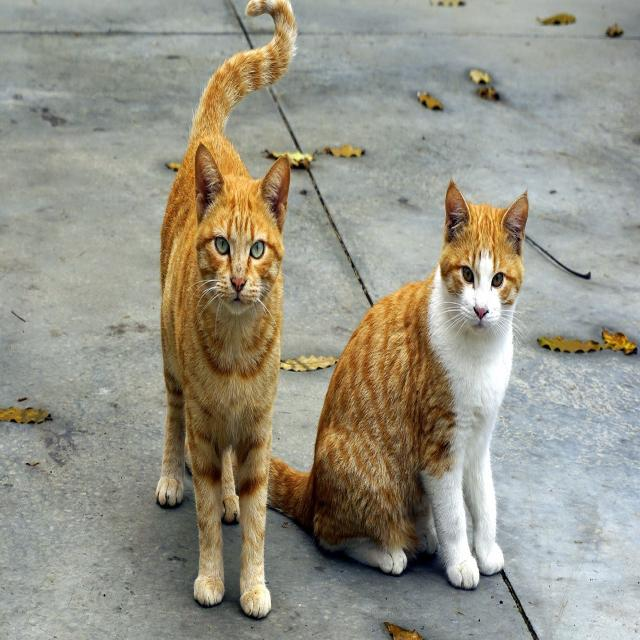cat: (291, 184, 529, 589), (156, 6, 292, 620)
